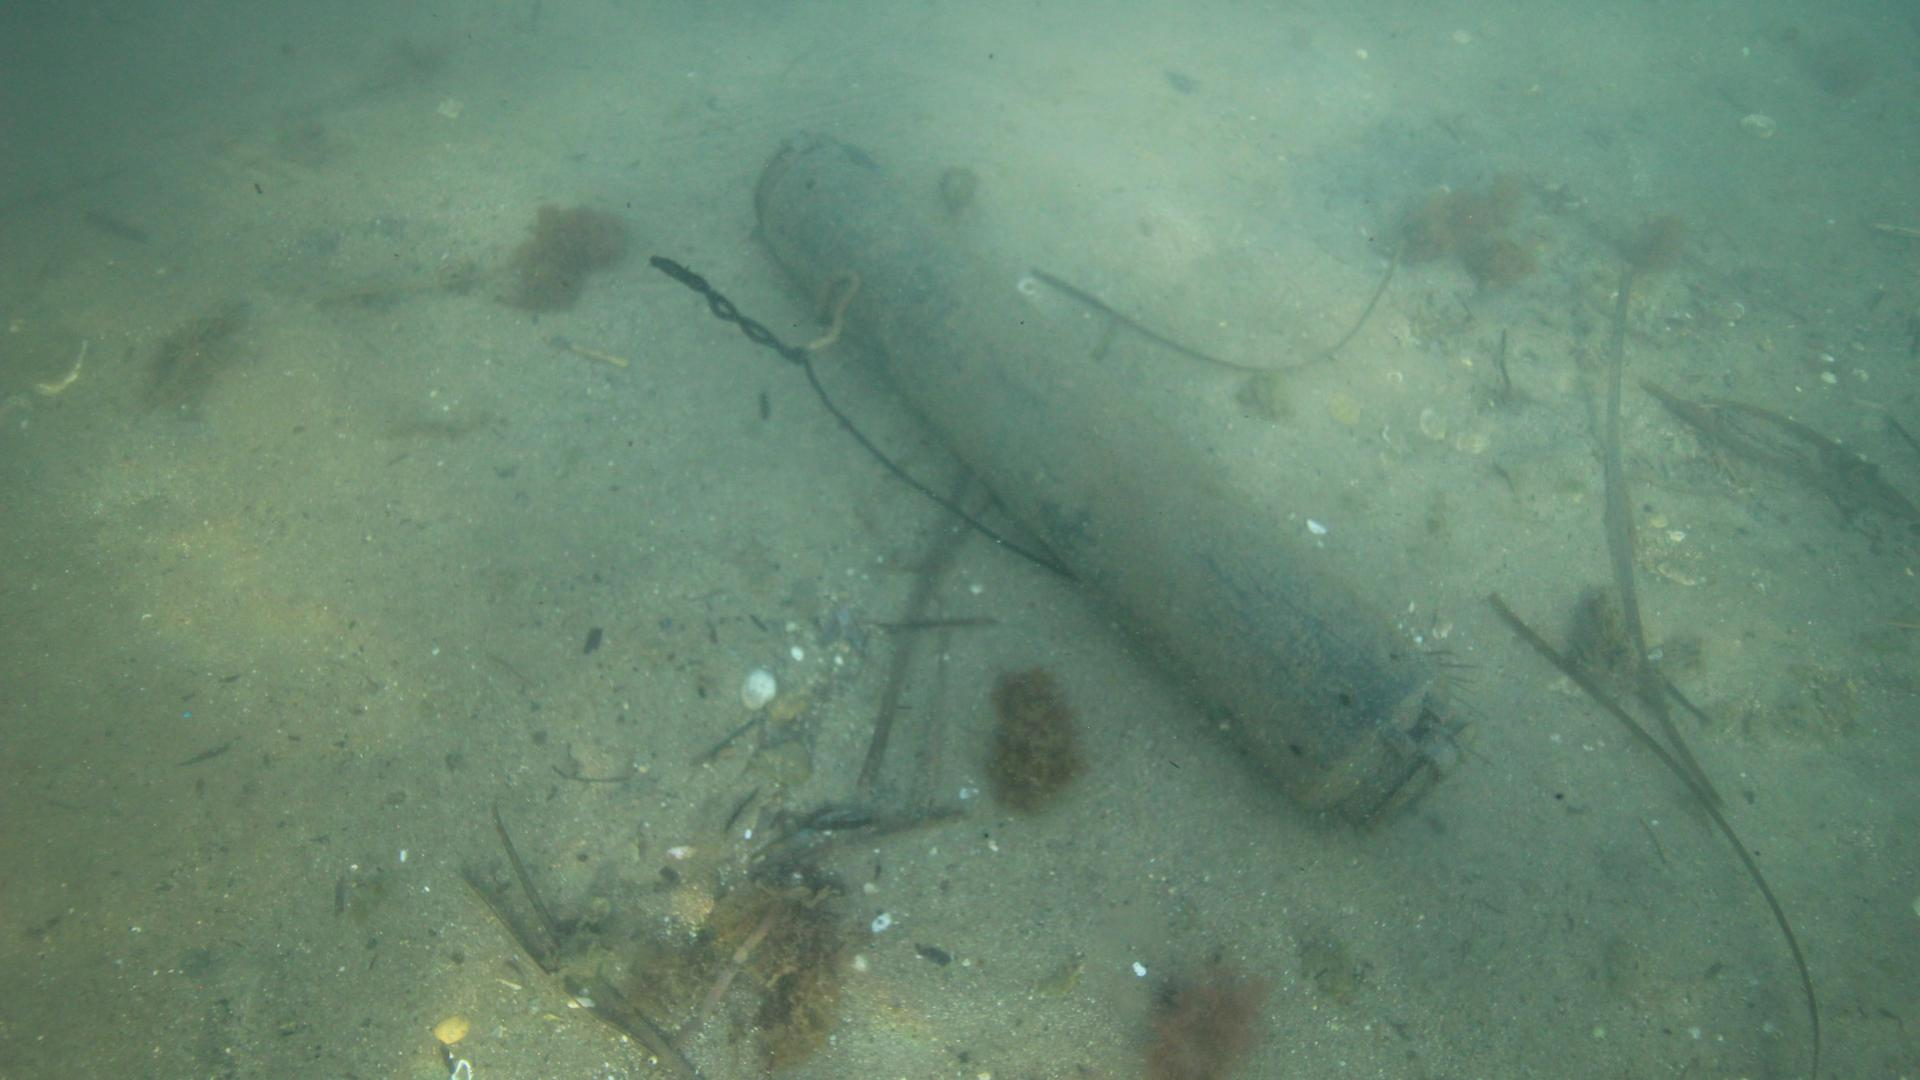eel fish trap: (745, 133, 1473, 829)
rope: (647, 252, 1077, 580)
